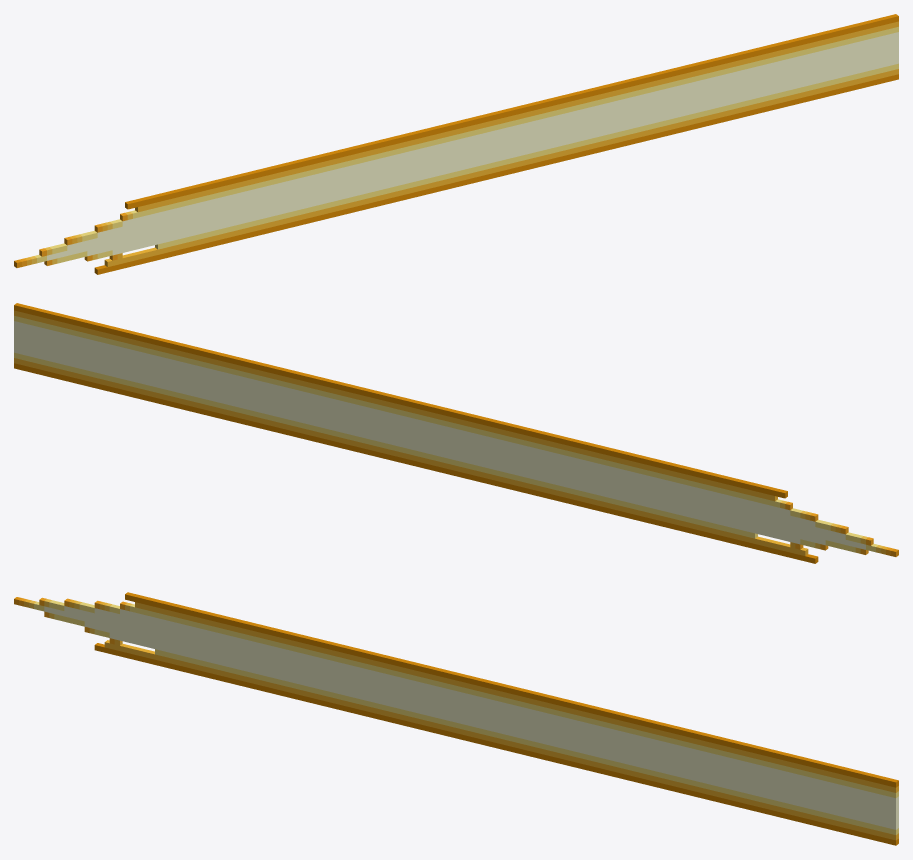
File: Fight_749_2_19_fx.obj
The picture shows the model from 3 angles, top to bottom: view 1: azimuth 30°, elevation 25°; view 2: azimuth 150°, elevation 25°; view 3: azimuth 330°, elevation 25°; orthographic projection.
Size of the model in its own units: 17.5 by 1.2 by 0.1.
